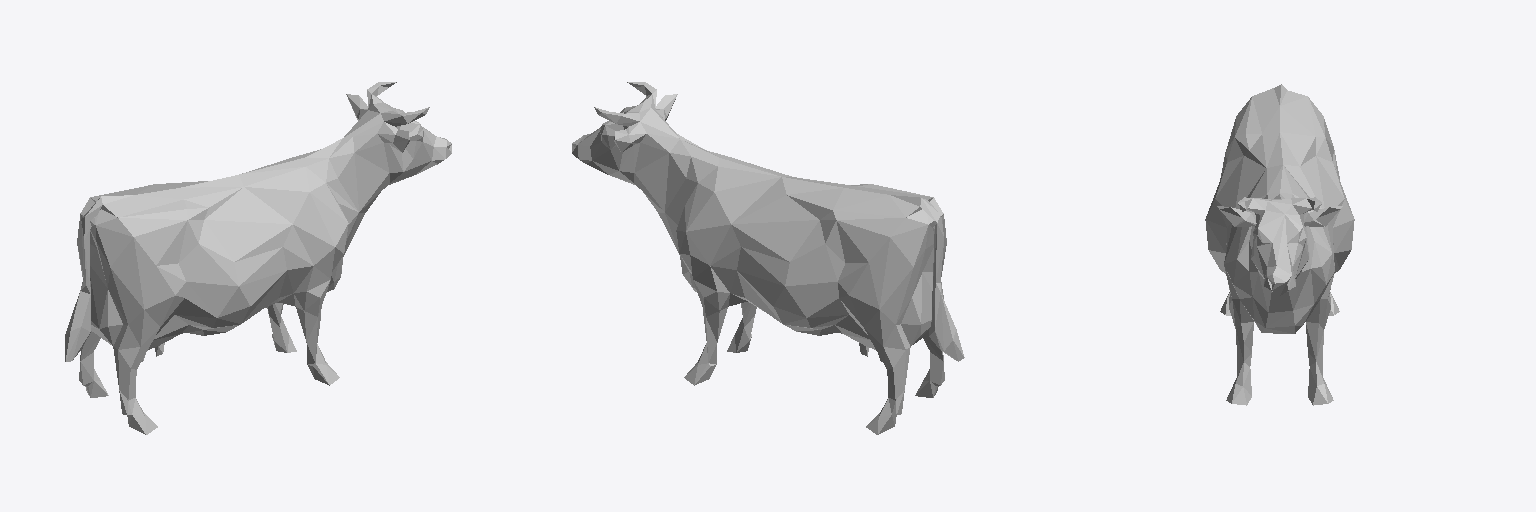
File: cow.obj
3 renders of one model, left to right at view 1: azimuth 30°, elevation 25°; view 2: azimuth 150°, elevation 25°; view 3: azimuth 270°, elevation 25°, orthographic.
Parts seen in each view (by area): view 1: cow; view 2: cow; view 3: cow.
Boxes of the visible parts, x1,y1,x2,y2 form: cow: [65, 82, 451, 434]; cow: [572, 82, 964, 434]; cow: [1205, 84, 1354, 405].
Bounding box in the file's own units: 5.75 × 3.51 × 1.92.